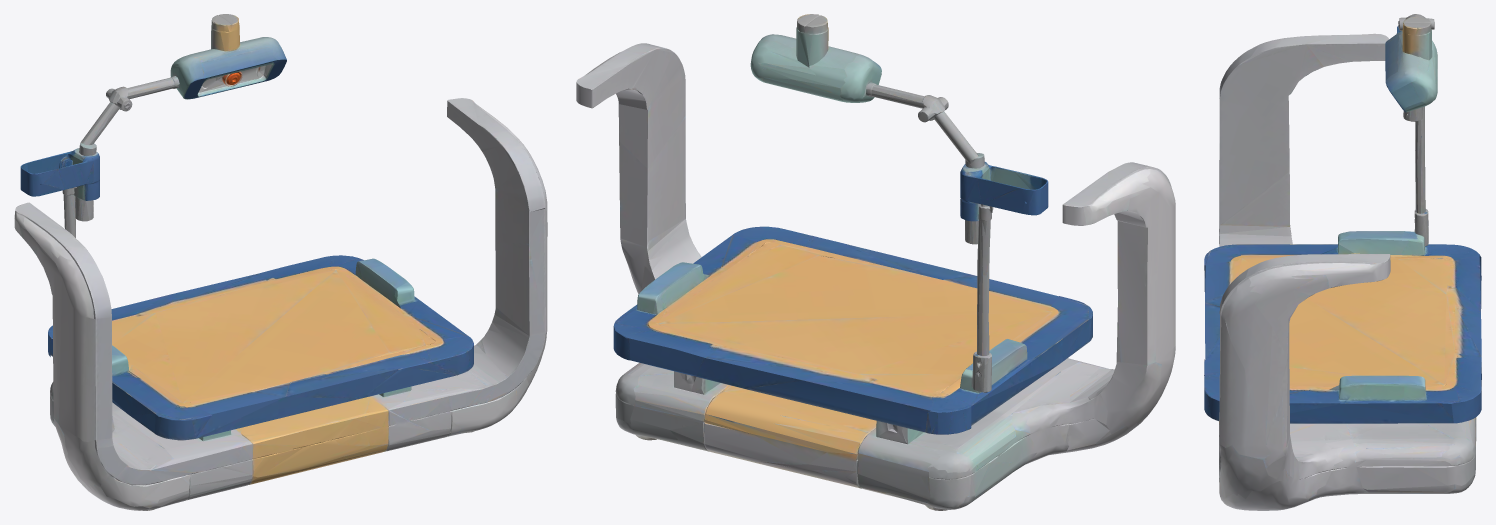
The model's file is evidence-scanner.gltf.
The picture shows the model from 3 angles, left to right: view 1: azimuth 30°, elevation 25°; view 2: azimuth 150°, elevation 25°; view 3: azimuth 270°, elevation 25°; orthographic projection. The views are drawn at different scales.
Size of the model in its own units: 1.9 by 1.5 by 0.9412.
Materials: 1 (1 with a texture image).
